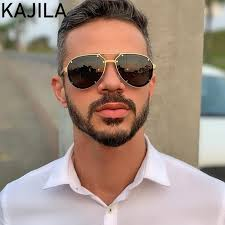g.y: (67, 54, 106, 90)
